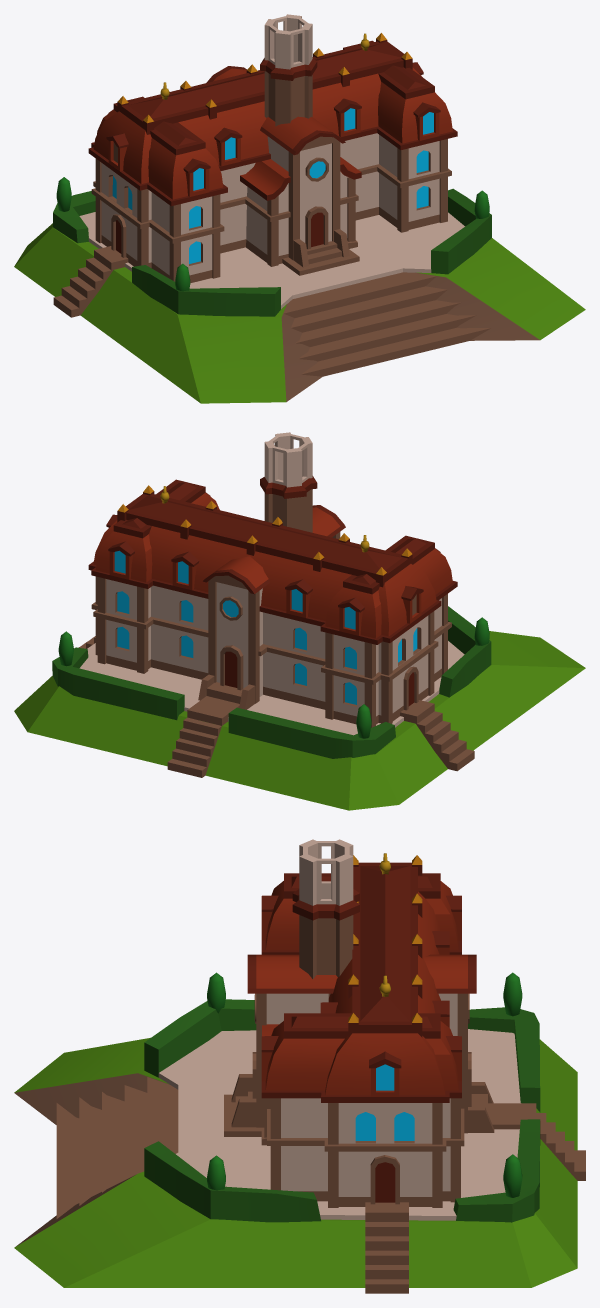
The model's file is townhall_8.fbx.
3 renders of one model, top to bottom at view 1: azimuth 30°, elevation 25°; view 2: azimuth 150°, elevation 25°; view 3: azimuth 270°, elevation 25°, orthographic. The views are drawn at different scales.
Parts seen in each view (by area): view 1: 08_townhall, Object21231; view 2: 08_townhall, Object21231; view 3: 08_townhall, Object21231.
Boxes of the visible parts, x1,y1,x2,y2 form: 08_townhall: (14,14,585,403); Object21231: (53,188,491,316); 08_townhall: (14,432,585,810); Object21231: (52,606,491,758); 08_townhall: (14,839,585,1293); Object21231: (144,999,540,1222).
Size of the model in its own units: 225 by 221 by 136.
